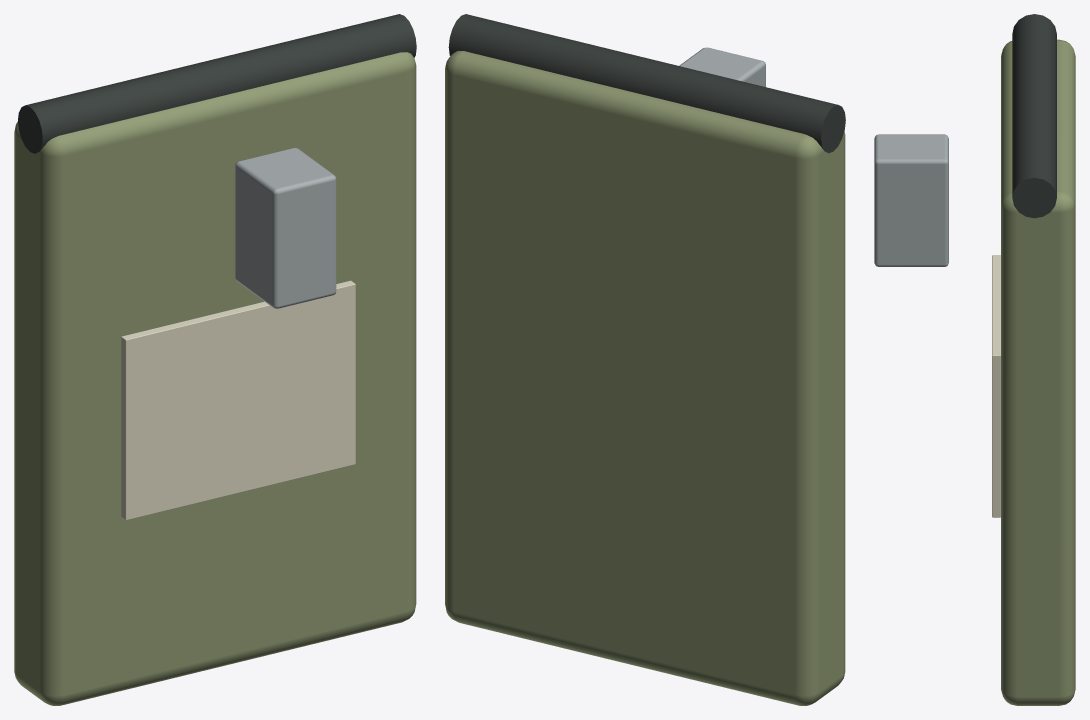
File: survival-food-and-preservation-ration-pouch-e721289c__21735.glb
The picture shows the model from 3 angles, left to right: view 1: azimuth 30°, elevation 25°; view 2: azimuth 150°, elevation 25°; view 3: azimuth 270°, elevation 25°; orthographic projection. The views are drawn at different scales.
Parts seen in each view (by area): view 1: ration-pouch; view 2: ration-pouch; view 3: ration-pouch.
Boxes of the visible parts, x1,y1,x2,y2 form: ration-pouch: (14, 14, 416, 705); ration-pouch: (445, 14, 845, 705); ration-pouch: (874, 14, 1075, 705).
Bounding box in the file's own units: 0.13 × 0.1975 × 0.0675.
